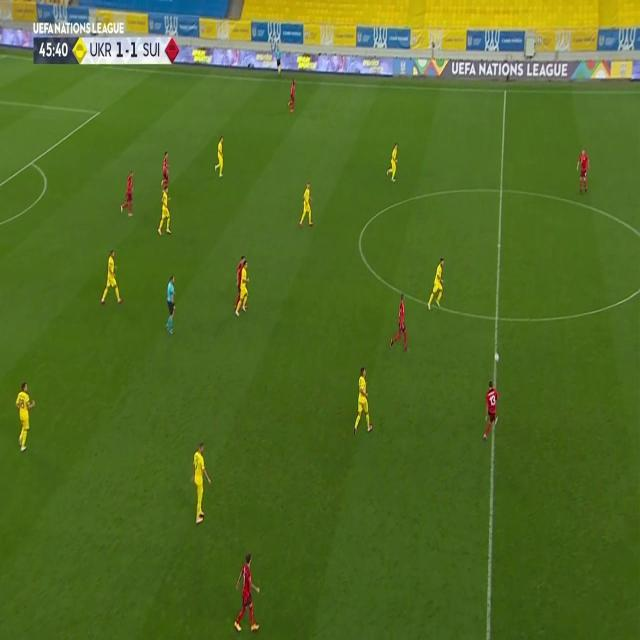ball: (494, 351, 499, 362)
player: (232, 550, 262, 632), (190, 441, 212, 523), (13, 378, 37, 452), (352, 366, 373, 436), (100, 248, 122, 306), (389, 293, 409, 351), (481, 380, 499, 442), (426, 256, 446, 310), (233, 255, 250, 318), (297, 180, 315, 228), (156, 185, 173, 235), (119, 170, 135, 217), (164, 274, 176, 333), (575, 146, 589, 194), (384, 140, 400, 182), (212, 133, 225, 178), (159, 150, 171, 186), (272, 40, 282, 76), (286, 77, 296, 112)
